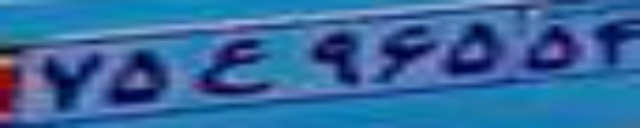4: (592, 19, 638, 67)
5: (107, 51, 175, 104), (444, 21, 502, 76), (526, 27, 580, 69)
6: (370, 24, 438, 84)
7: (41, 52, 103, 110)
9: (304, 32, 360, 85)
ain: (187, 38, 276, 97)
